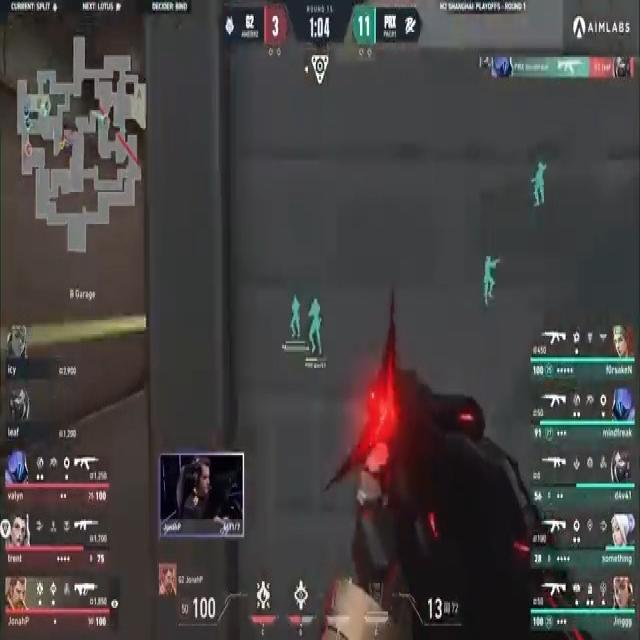ally behind wall: (480, 243, 504, 310), (308, 292, 324, 361), (530, 160, 550, 213), (288, 295, 302, 344)
